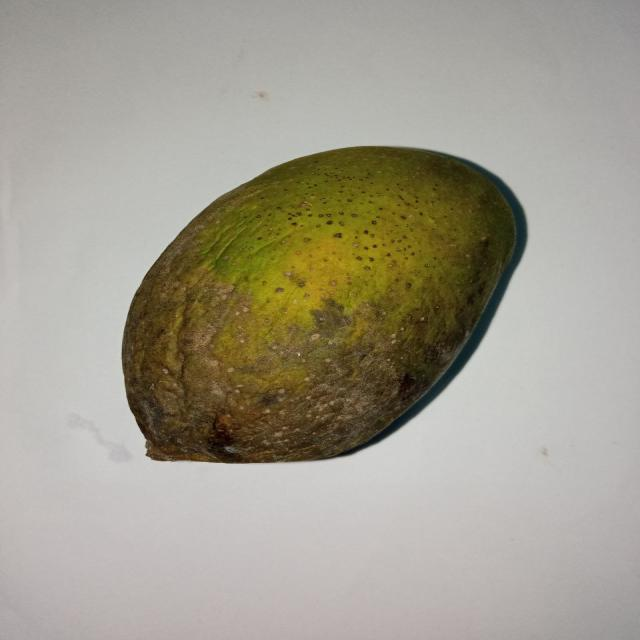rotten_mango: (119, 145, 515, 461)
